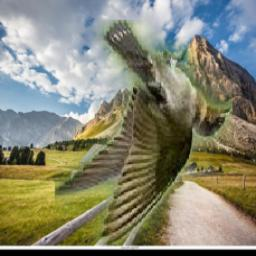Swallow: (54, 21, 231, 246)
